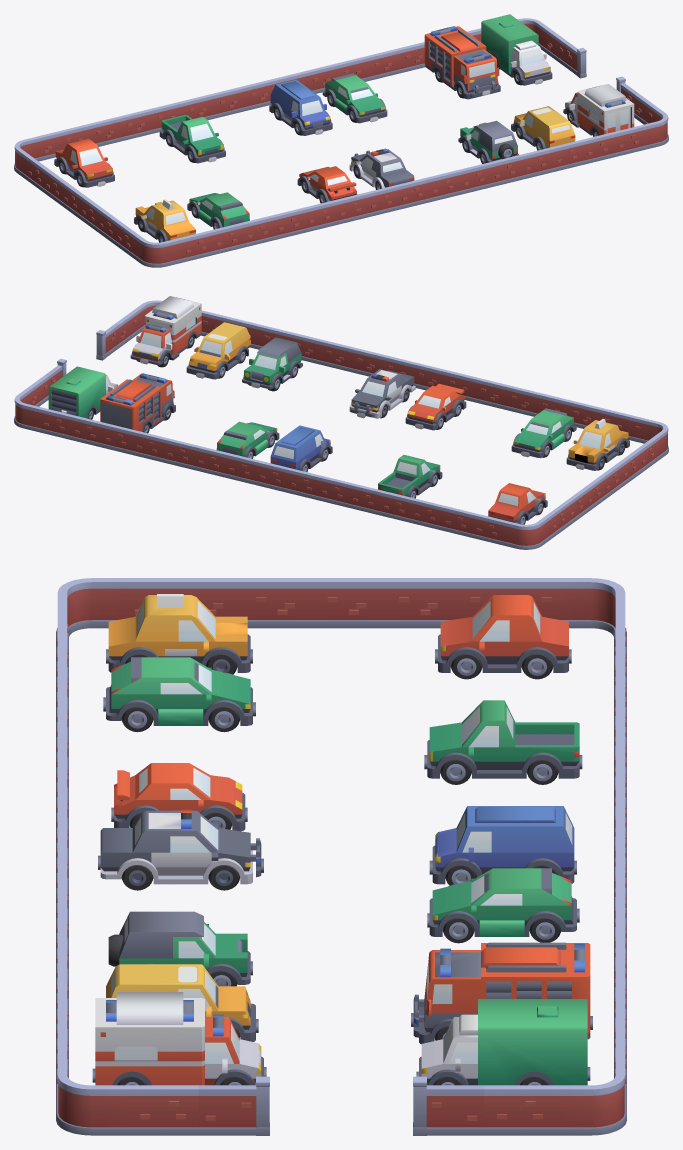
Rendered from SmartParkingAppPreview-transformed.glb.
3 renders of one model, top to bottom at view 1: azimuth 30°, elevation 25°; view 2: azimuth 150°, elevation 25°; view 3: azimuth 270°, elevation 25°, orthographic. The views are drawn at different scales.
Visible parts, largest first — view 1: wheel-front-left, brick-wall; view 2: wheel-front-left, brick-wall; view 3: wheel-front-left, brick-wall.
Part boxes in pixels (bbox=[...]): wheel-front-left: bbox=[54, 14, 634, 242]; brick-wall: bbox=[14, 18, 668, 267]; wheel-front-left: bbox=[48, 296, 629, 524]; brick-wall: bbox=[14, 300, 668, 549]; wheel-front-left: bbox=[92, 594, 592, 1085]; brick-wall: bbox=[56, 578, 626, 1135].
Bounding box in the file's own units: 17.01 × 1.35 × 8.
Materials: 2 (2 with a texture image).
